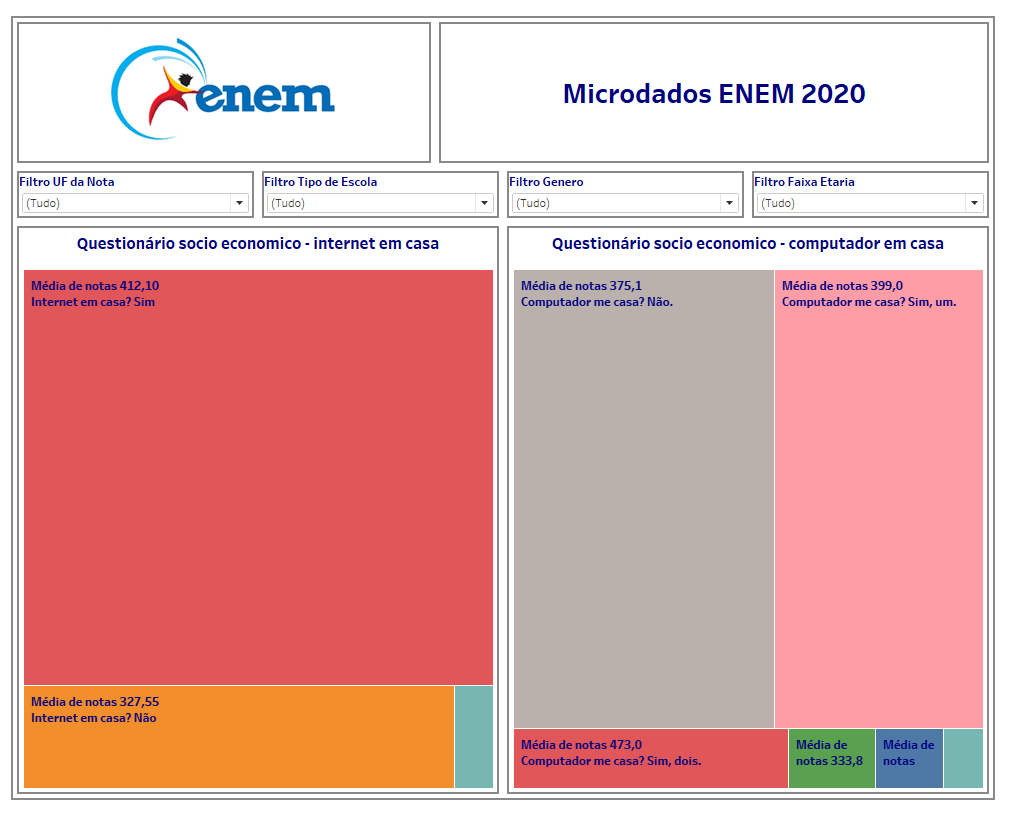

Layout of this report page (visuals, bound fields, positions):
{"tool":"tableau","page":{"name":"Painel SocioEconomico","canvas":[1000,800],"ordinal":3},"visuals":[{"type":"image","param":"C:/Users/s038431376/Documents/GitHub/Teste-Analista-de-Dados-SX/Tableau/microdad","box":[10,10,422,149]},{"type":"text","box":[432,10,558,149]},{"type":"filter","title":"InternetCasa","param":"[federated.03f40a11b8pgvu12wiwvm0h3p6bn].[none:SG_UF_PROVA:nk]","box":[10,159,245,55]},{"type":"filter","title":"InternetCasa","param":"[federated.03f40a11b8pgvu12wiwvm0h3p6bn].[none:Calculation_1276770556918001664:n","box":[255,159,245,55]},{"type":"filter","title":"InternetCasa","param":"[federated.03f40a11b8pgvu12wiwvm0h3p6bn].[none:Tipo Escola (cópia)_1497728413907","box":[500,159,245,55]},{"type":"filter","title":"InternetCasa","param":"[federated.03f40a11b8pgvu12wiwvm0h3p6bn].[none:Tipo Escola (cópia)_7095984793682","box":[745,159,245,55]},{"type":"worksheet","title":"InternetCasa","mark":"Square","box":[10,214,490,576]},{"type":"worksheet","title":"ComputadorCasa","mark":"Square","box":[500,214,490,576]}]}

Visuals, with their boxes in screenshot pixels (x1, y1, x2, y2), scaled from the page's 1000x800 canvas onto the 1011x820 screenshot:
image: (x1=10, y1=10, x2=437, y2=163)
text: (x1=437, y1=10, x2=1001, y2=163)
"InternetCasa" filter: (x1=10, y1=163, x2=258, y2=219)
"InternetCasa" filter: (x1=258, y1=163, x2=505, y2=219)
"InternetCasa" filter: (x1=505, y1=163, x2=753, y2=219)
"InternetCasa" filter: (x1=753, y1=163, x2=1001, y2=219)
"InternetCasa" worksheet (Square marks): (x1=10, y1=219, x2=505, y2=810)
"ComputadorCasa" worksheet (Square marks): (x1=505, y1=219, x2=1001, y2=810)
